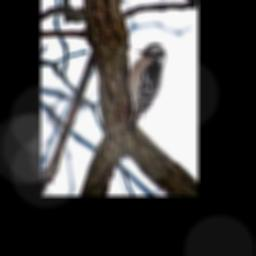Woodpecker: (118, 43, 166, 131)
